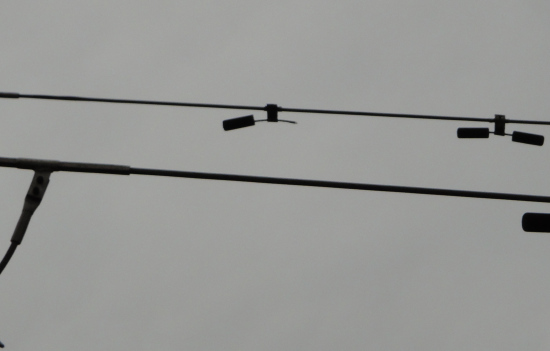damper: (455, 113, 546, 148)
damper_defect: (221, 102, 300, 132)
